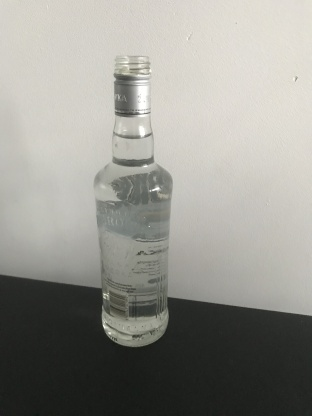nakretka: (111, 51, 153, 118)
